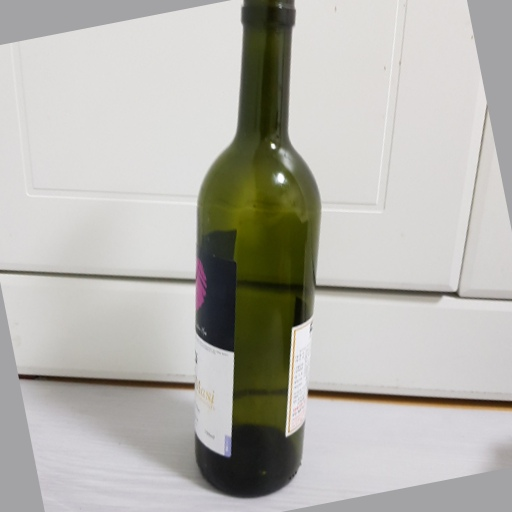Glass_2: (188, 1, 324, 502)
